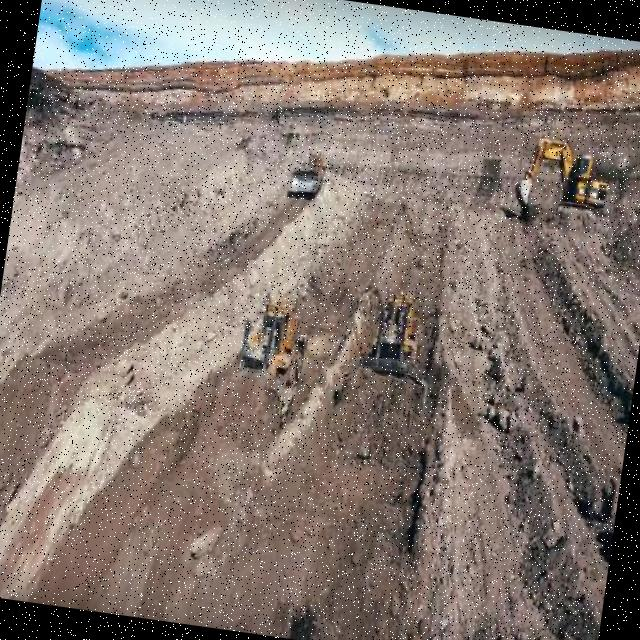Excavator: (515, 136, 613, 218)
